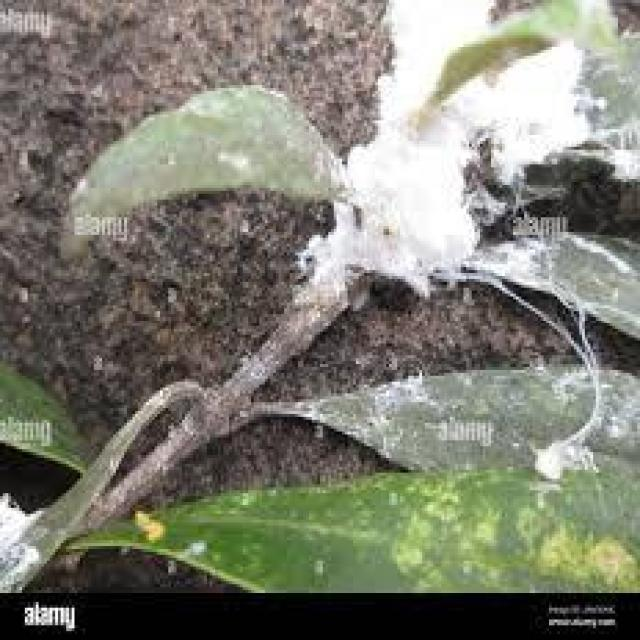Psyllid: (292, 0, 638, 302)
